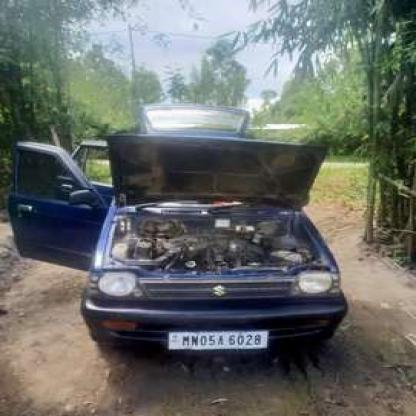license_plate: (166, 330, 266, 348)
